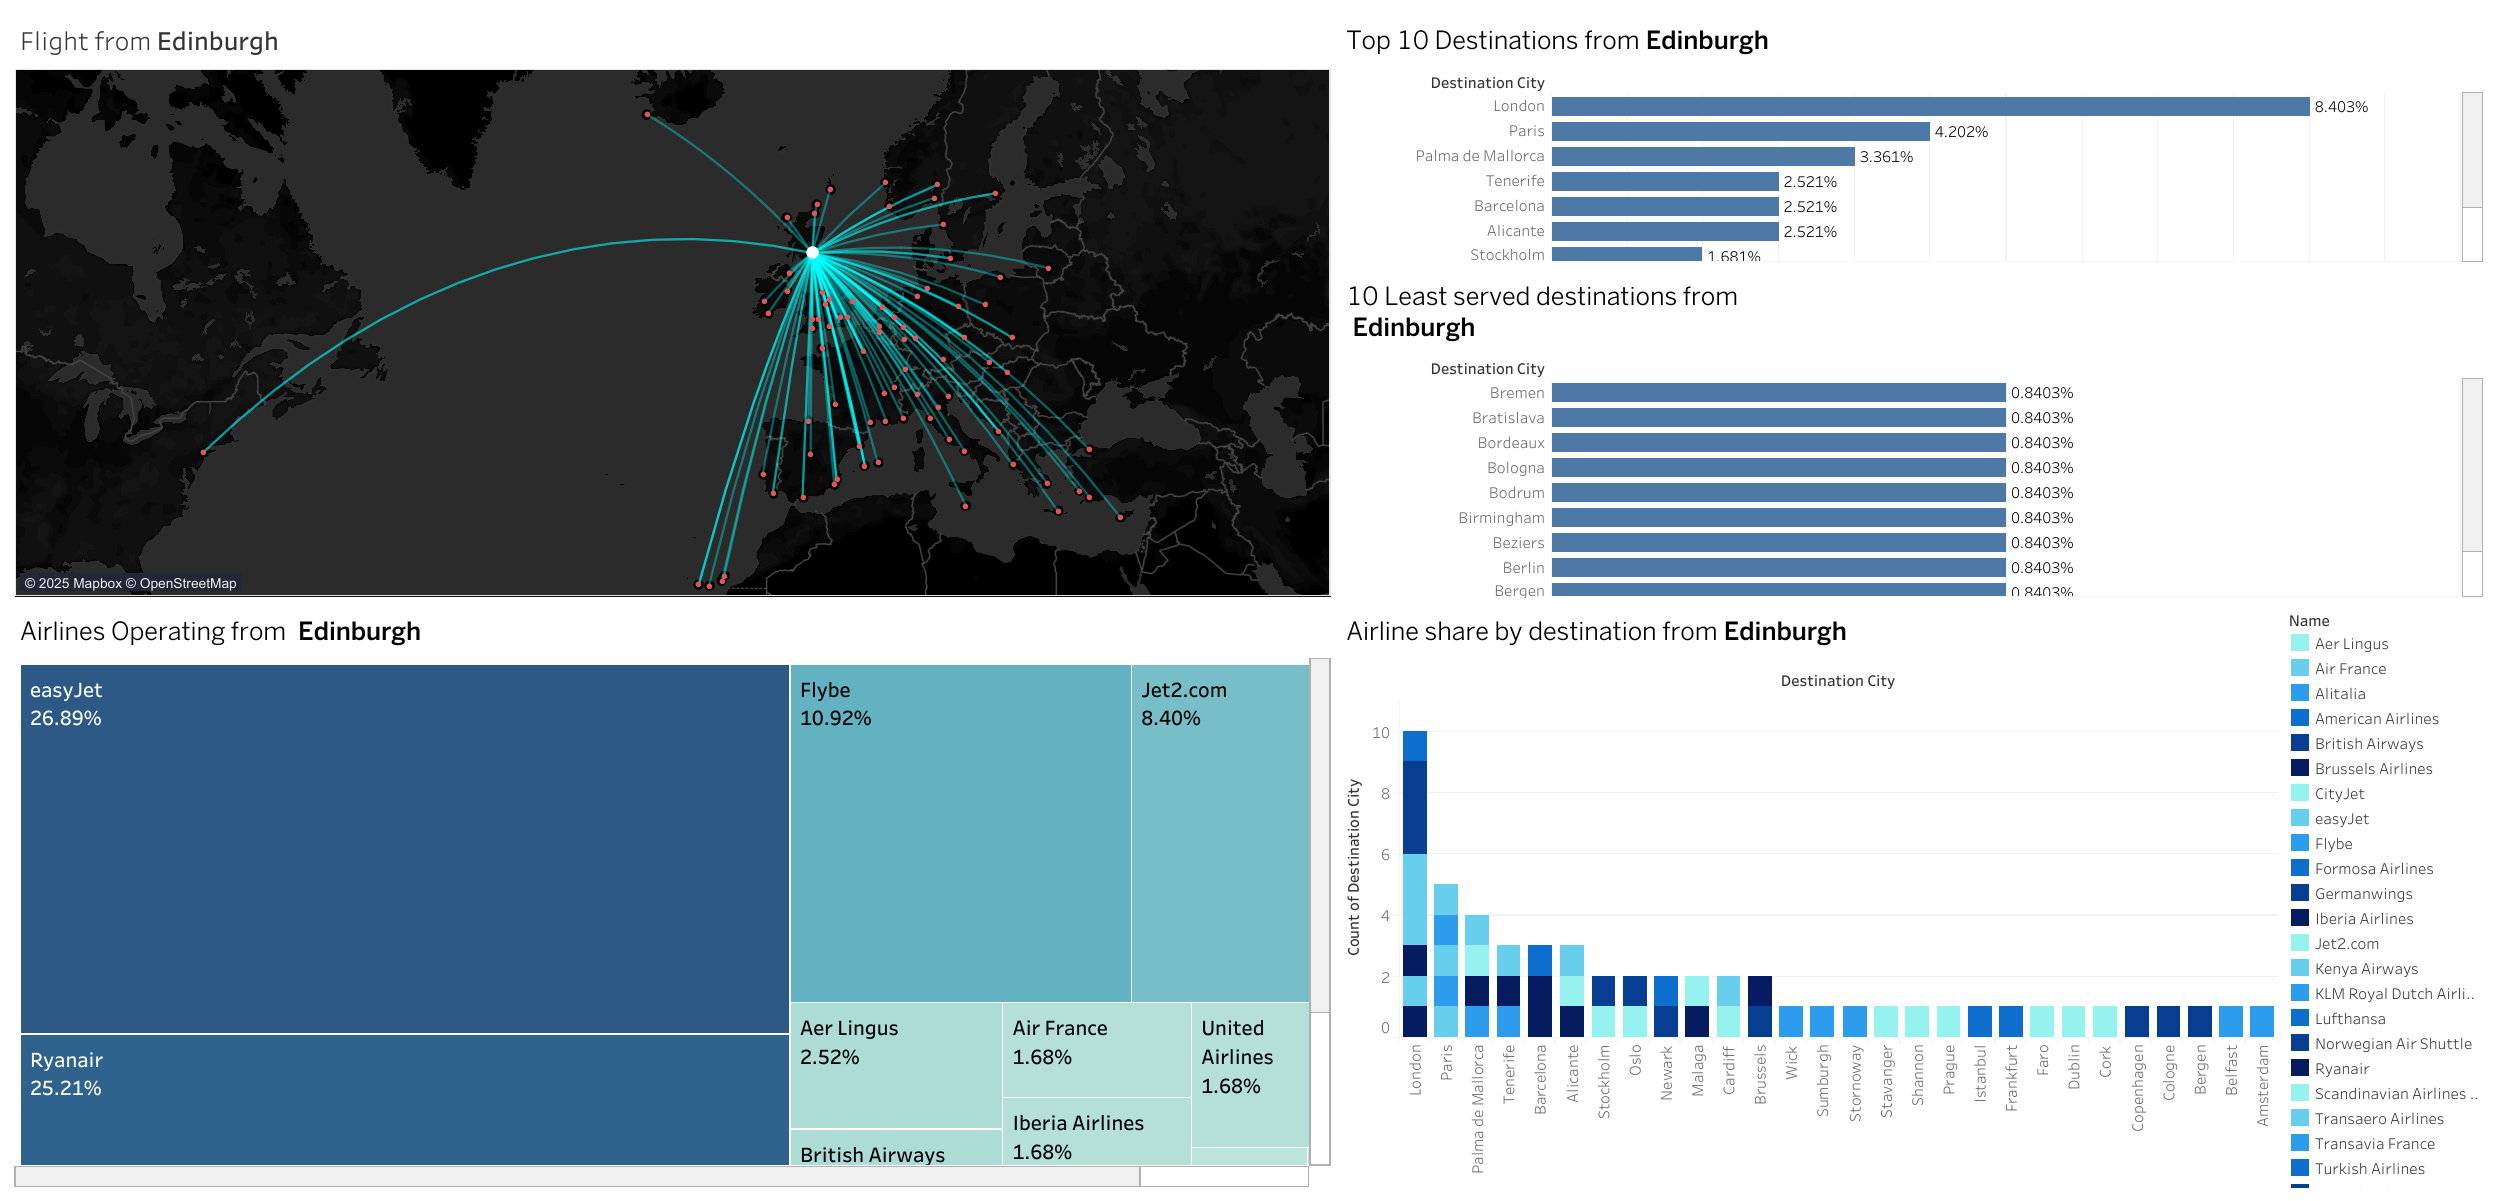

What the dashboard file says about the page in this screenshot:
{"tool":"tableau","page":{"name":"Dashboard 1","canvas":[1000,1000],"units":"permille","ordinal":0},"visuals":[{"type":"worksheet","title":"Flight from","mark":"Automatic","box":[3.5,6.1,531.6,493.9]},{"type":"worksheet","title":"top10","mark":"Automatic","rows":["Destination_City"],"cols":["Destination_City"],"box":[535,6.1,461.5,214.2]},{"type":"worksheet","title":"buttom10","mark":"Automatic","rows":["Destination_City"],"cols":["Destination_City"],"box":[535,220.3,461.5,271]},{"type":"worksheet","title":"airlineshare","mark":"Automatic","rows":["Destination_City"],"cols":["Destination_City"],"box":[535,491.3,378.8,502.7]},{"type":"legend","title":"airlineshare","param":"[federated.0goikea031qav3191oidx0mdgaqn].[none:Name:nk]","box":[913.8,491.3,82.7,502.7]},{"type":"worksheet","title":"airline","mark":"Automatic","box":[3.5,500,531.6,493.9]}]}

Visuals, with their boxes on the dashboard's canvas, which has no fixed pixel size, in thousandths of its width and height (x1, y1, x2, y2). These are canvas units, not pixel positions in the 2498x1201 screenshot, which may show the page scaled, cropped or inside an application window:
"Flight from" worksheet: box(4, 6, 535, 500)
"top10" worksheet: box(535, 6, 996, 220)
"buttom10" worksheet: box(535, 220, 996, 491)
"airlineshare" worksheet: box(535, 491, 914, 994)
"airlineshare" legend: box(914, 491, 996, 994)
"airline" worksheet: box(4, 500, 535, 994)
